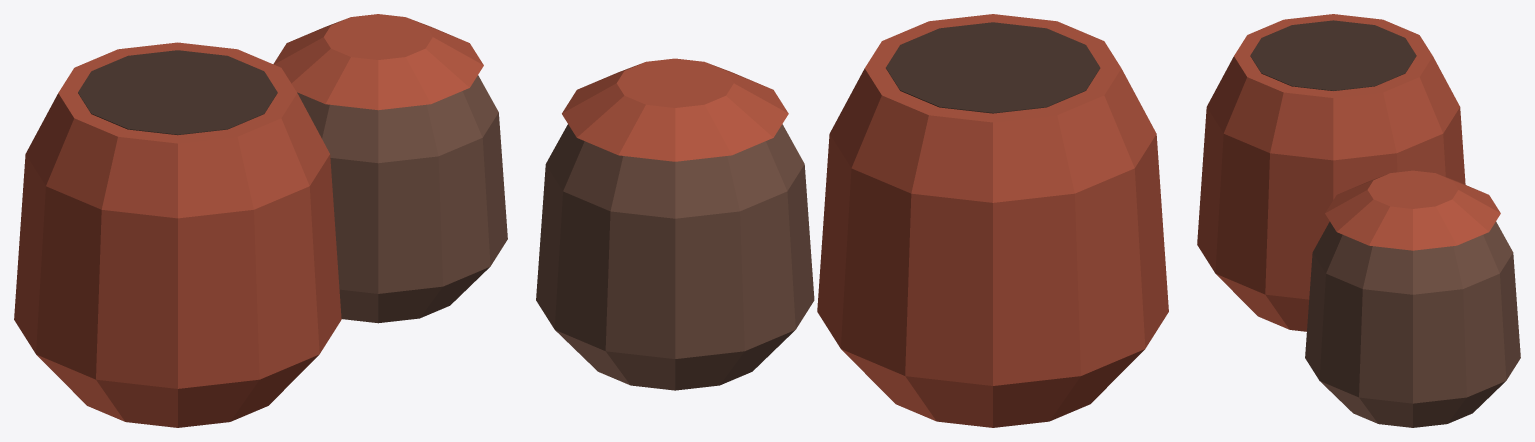
File: 067_earthen_water_pots.glb
3 renders of one model, left to right at view 1: azimuth 30°, elevation 25°; view 2: azimuth 150°, elevation 25°; view 3: azimuth 270°, elevation 25°, orthographic. The views are drawn at different scales.
Parts seen in each view (by area): view 1: Earthen water pots; view 2: Earthen water pots; view 3: Earthen water pots.
Boxes of the visible parts, left/top/right/bottom form: Earthen water pots: left=14, top=14, right=507, bottom=427; Earthen water pots: left=536, top=14, right=1168, bottom=427; Earthen water pots: left=1197, top=14, right=1520, bottom=427.
Bounding box in the file's own units: 0.85 × 0.471 × 0.57.
